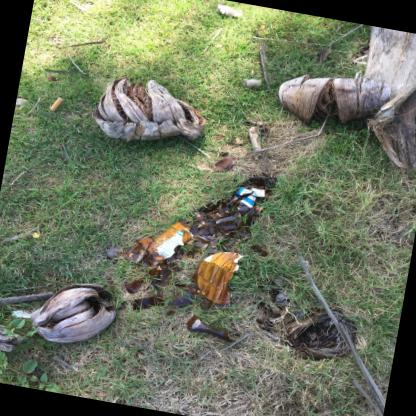Glass: (123, 177, 277, 312), (186, 314, 230, 342), (124, 273, 147, 294)
Paper: (49, 97, 62, 111)
